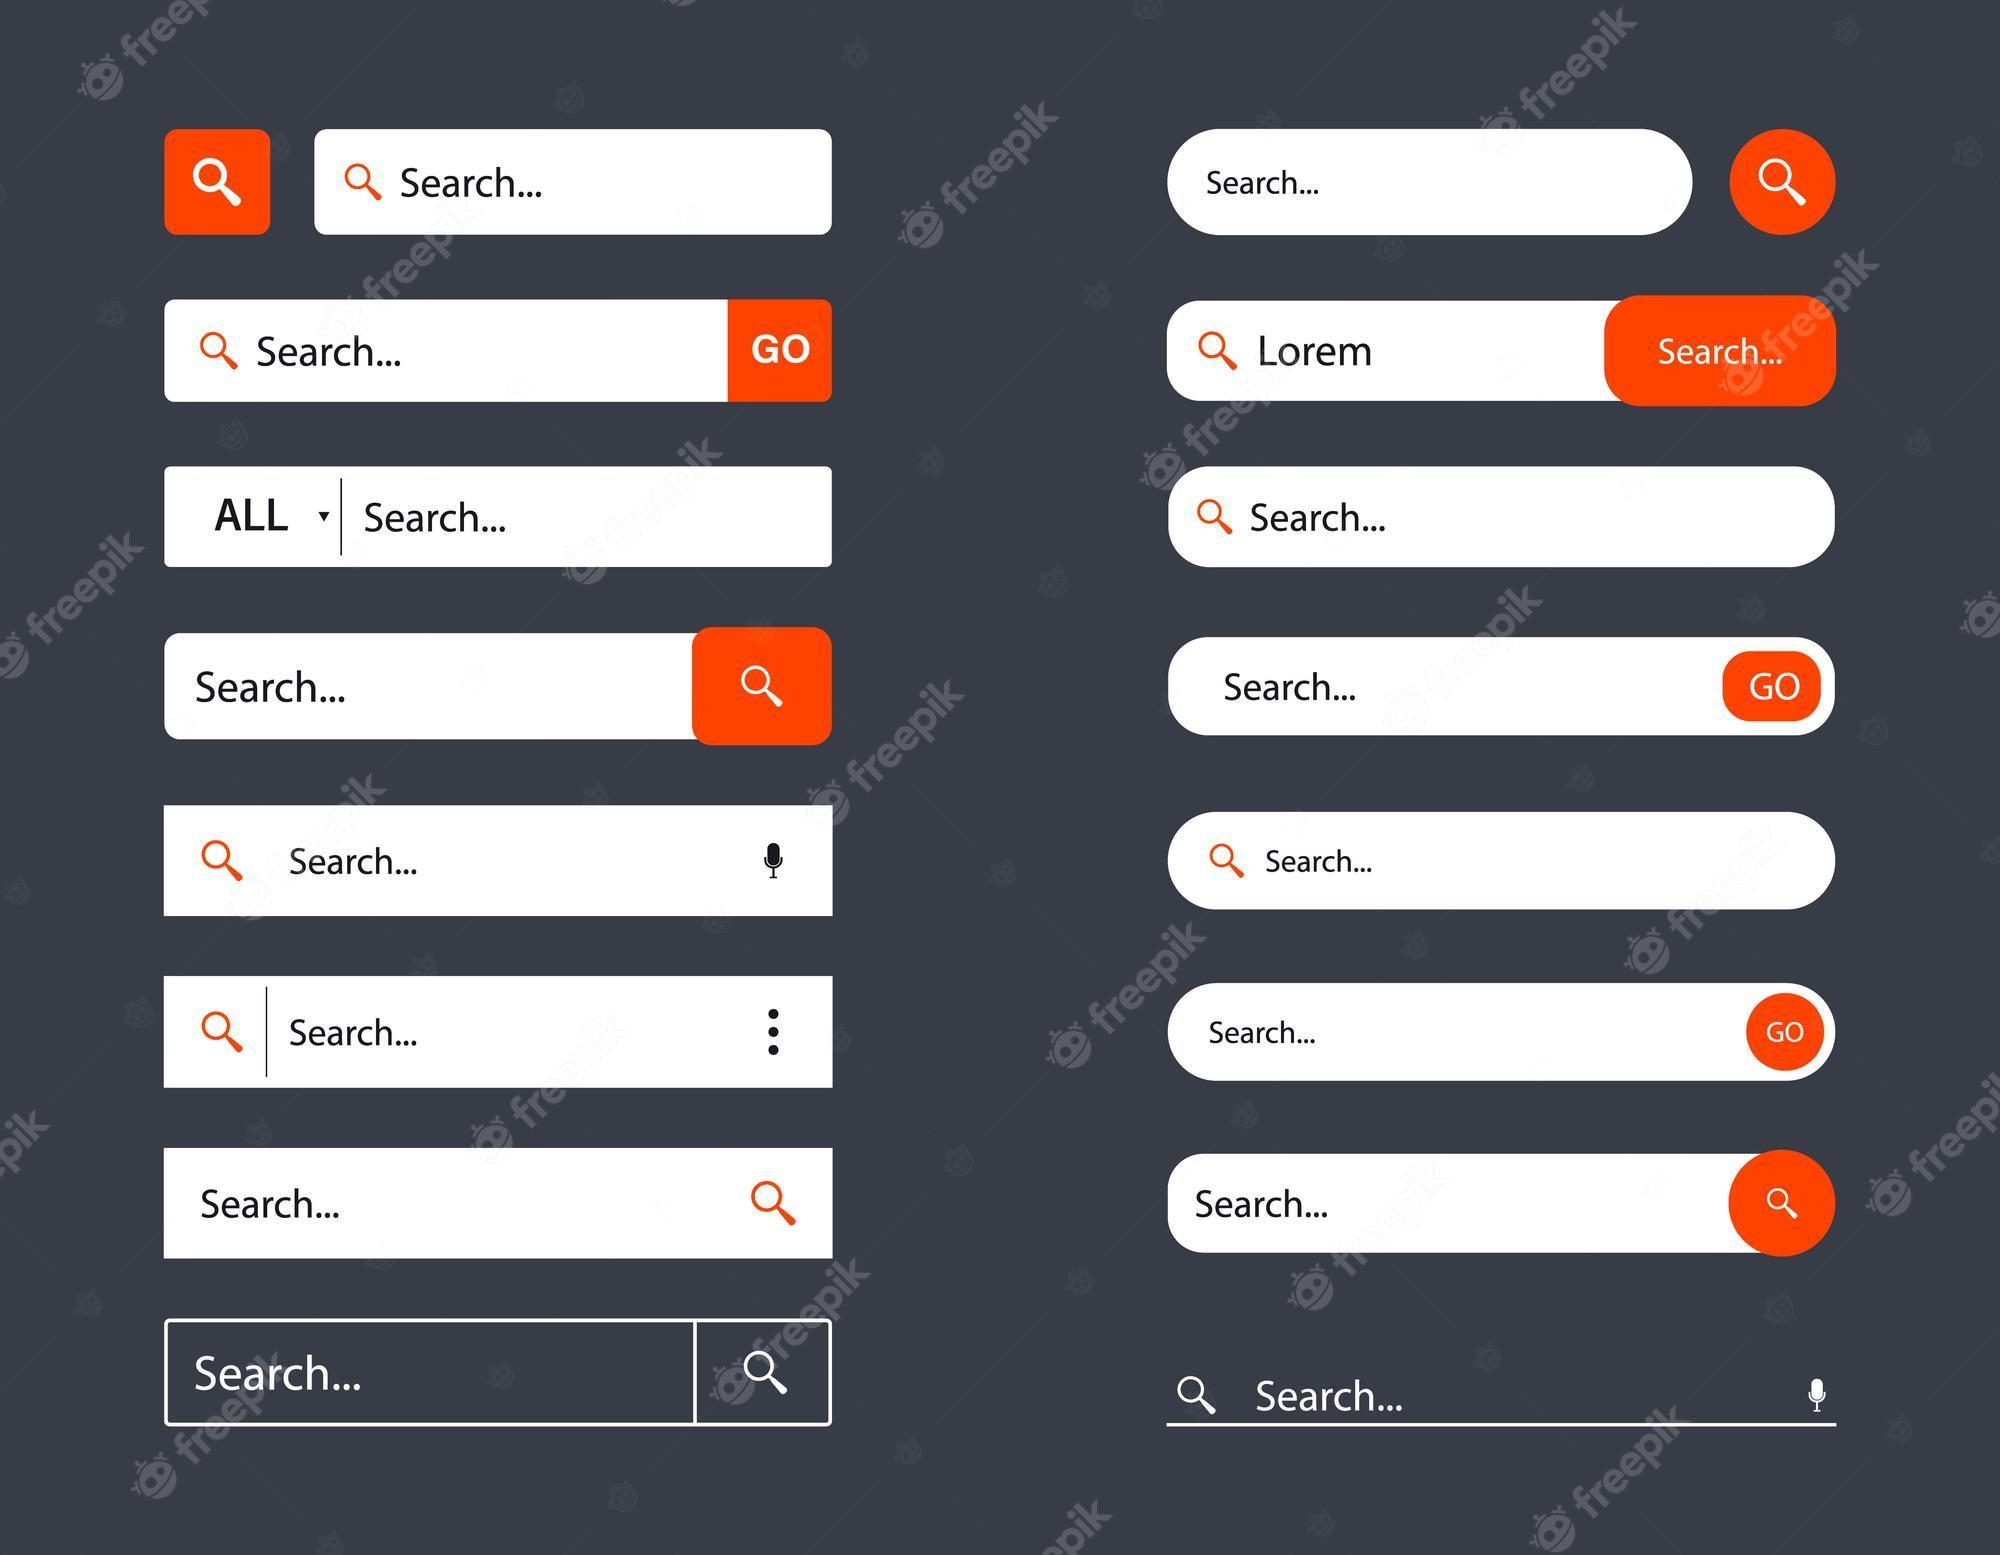button: (1727, 123, 1841, 243), (159, 131, 276, 230)
dropdown: (166, 469, 346, 568)
icon: (739, 1169, 808, 1235), (192, 151, 253, 219), (1753, 151, 1813, 221), (739, 653, 791, 722), (740, 1347, 800, 1407), (196, 825, 252, 889), (1170, 1359, 1221, 1425), (200, 1001, 252, 1063), (1756, 1183, 1813, 1234), (753, 995, 794, 1065), (1794, 1360, 1838, 1417), (761, 826, 794, 893)
input: (169, 802, 838, 924), (162, 977, 834, 1094), (170, 636, 833, 748), (167, 1316, 833, 1427), (166, 299, 834, 407), (1166, 295, 1833, 403), (1167, 984, 1828, 1091), (167, 1152, 834, 1256), (1174, 1152, 1833, 1256), (1170, 469, 1839, 571), (1167, 813, 1838, 914), (1169, 641, 1838, 739), (1167, 128, 1696, 239), (317, 122, 833, 234), (346, 474, 830, 573)
